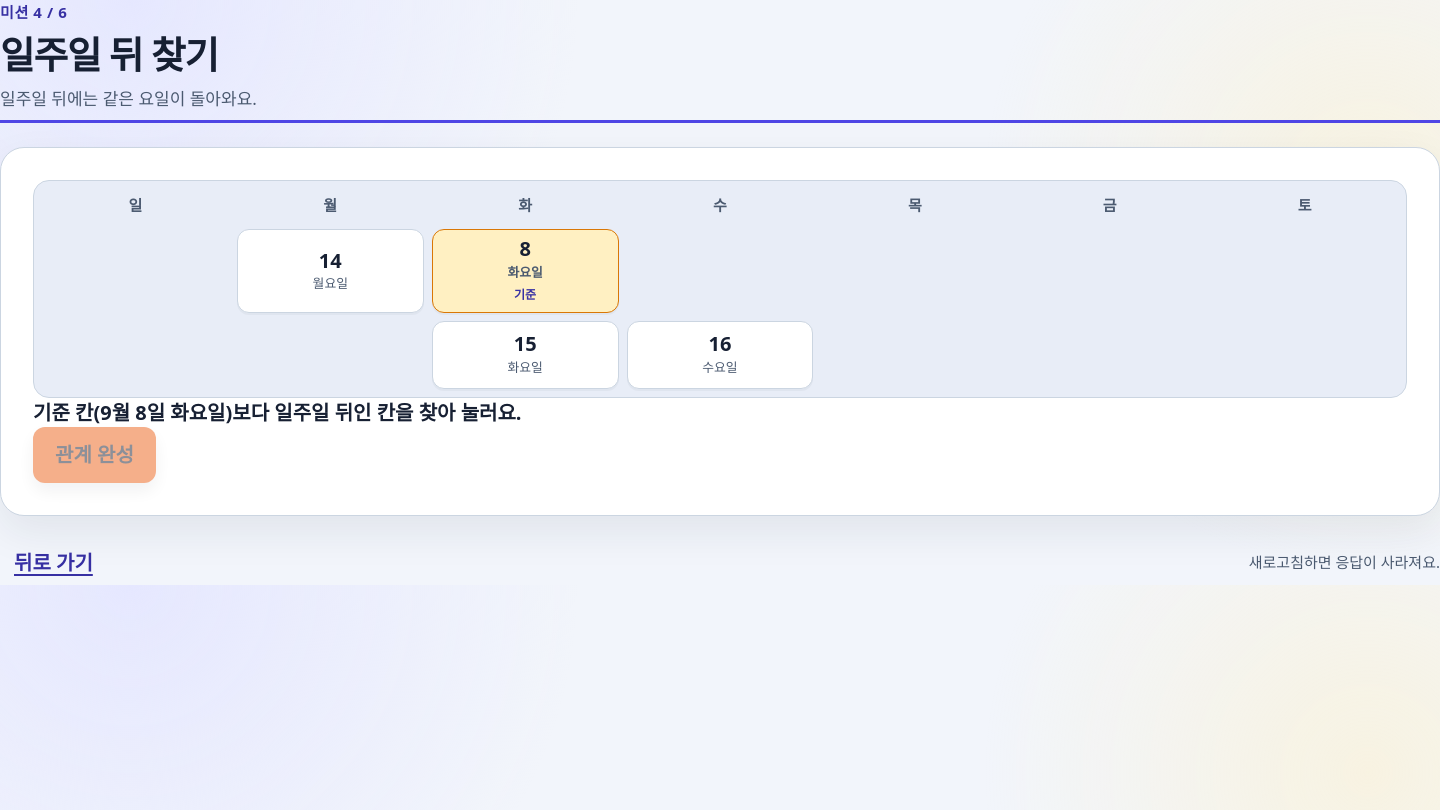
Test: 일주일 관계 단계 (calendar-after-seven-04 · calendar-order-05) › 일주일 뒤 칸을 찾는다
Step 1. Click the button with aria-label "2026년 9월 15일 화요일" → (525, 355), box x1=432 y1=321 x2=619 y2=389
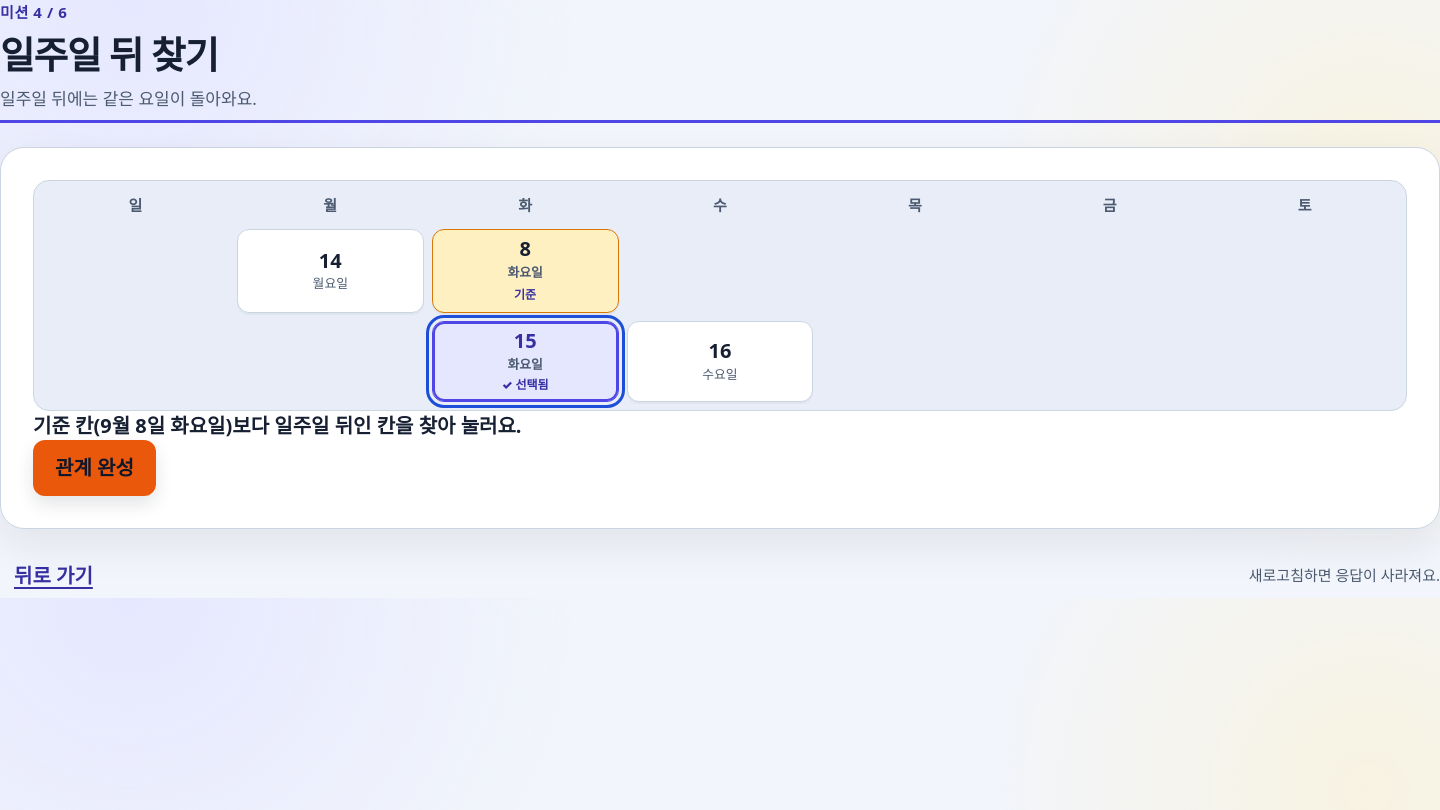
Step 2. Click the button "관계 완성" → (94, 468), box x1=33 y1=440 x2=156 y2=496
(page scrolled)
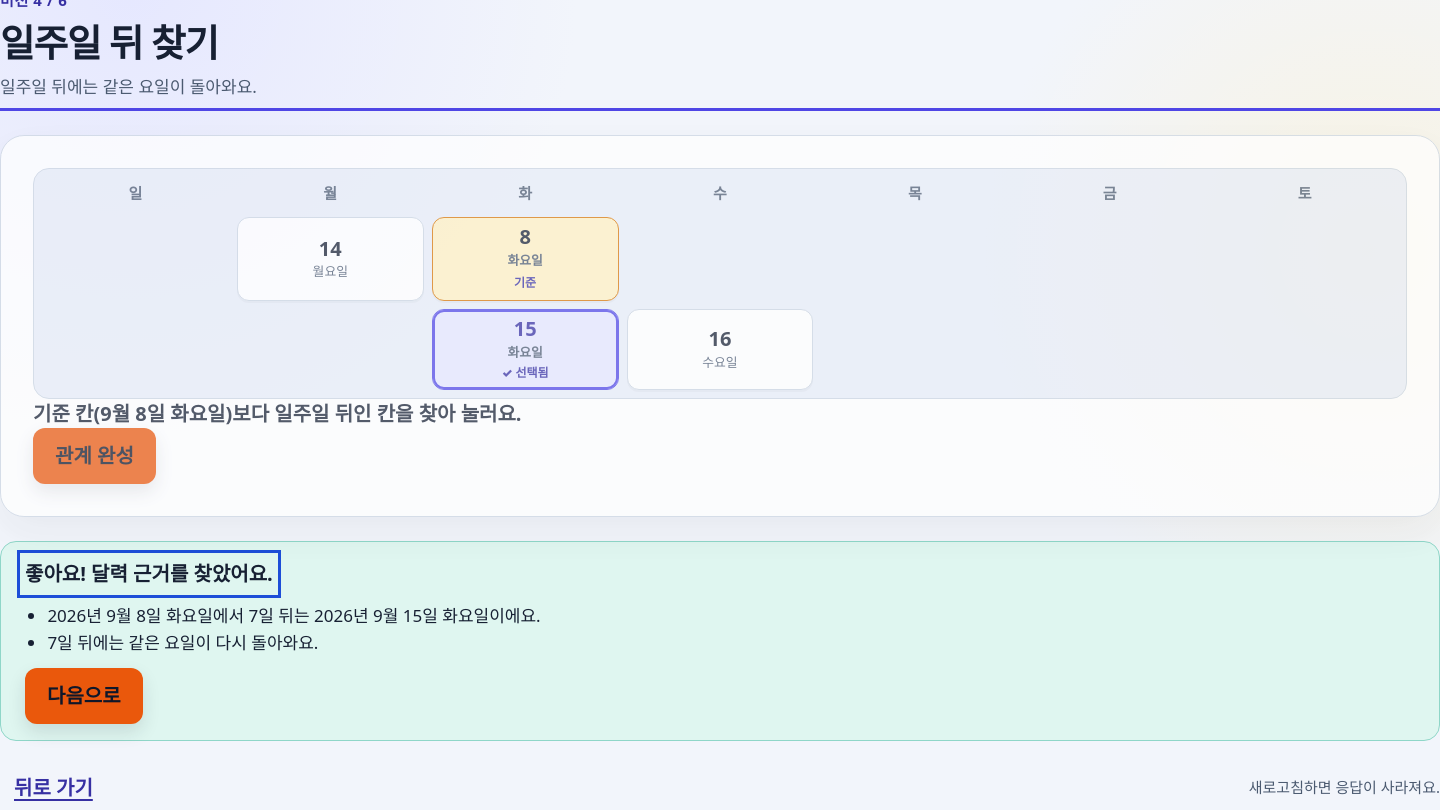
Expected: the heading "좋아요! 달력 근거를 찾았어요." is shown, x1=25 y1=558 x2=273 y2=590
Step 3. Click the button "다음으로" → (84, 696), box x1=25 y1=668 x2=143 y2=724
(page scrolled)
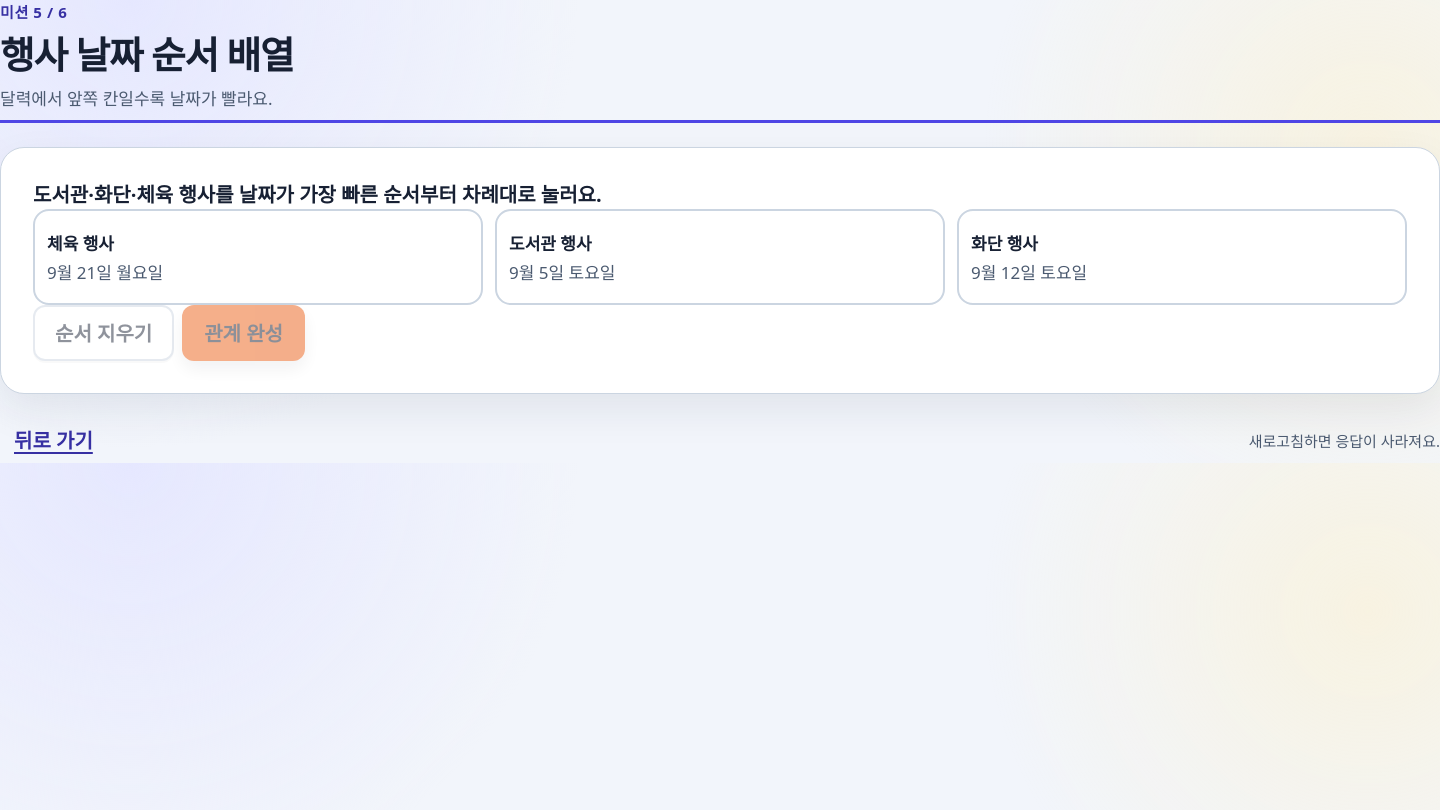
Expected: the heading "행사 날짜 순서 배열" is shown, x1=0 y1=29 x2=294 y2=80
